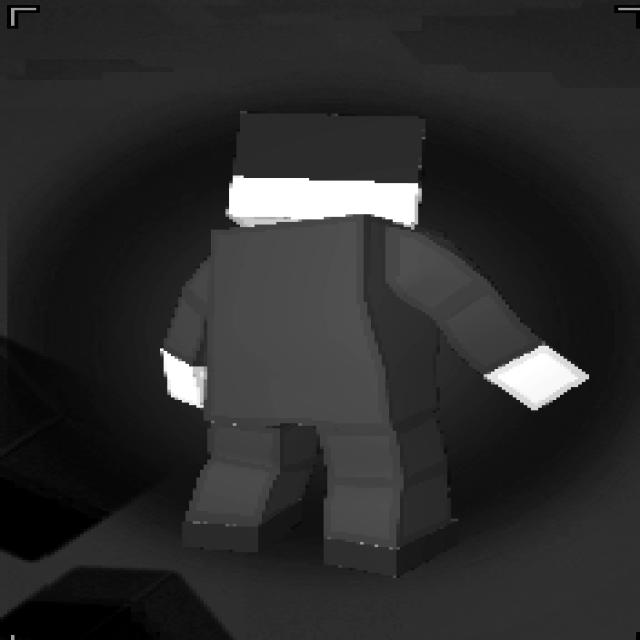Head: (222, 108, 425, 227)
Player: (156, 108, 589, 578)
